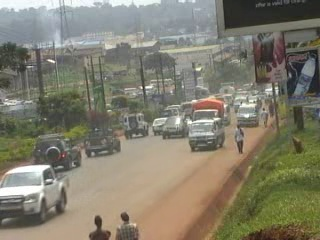Car: (32, 131, 82, 175), (121, 111, 150, 140), (161, 115, 189, 140), (150, 116, 168, 137)
